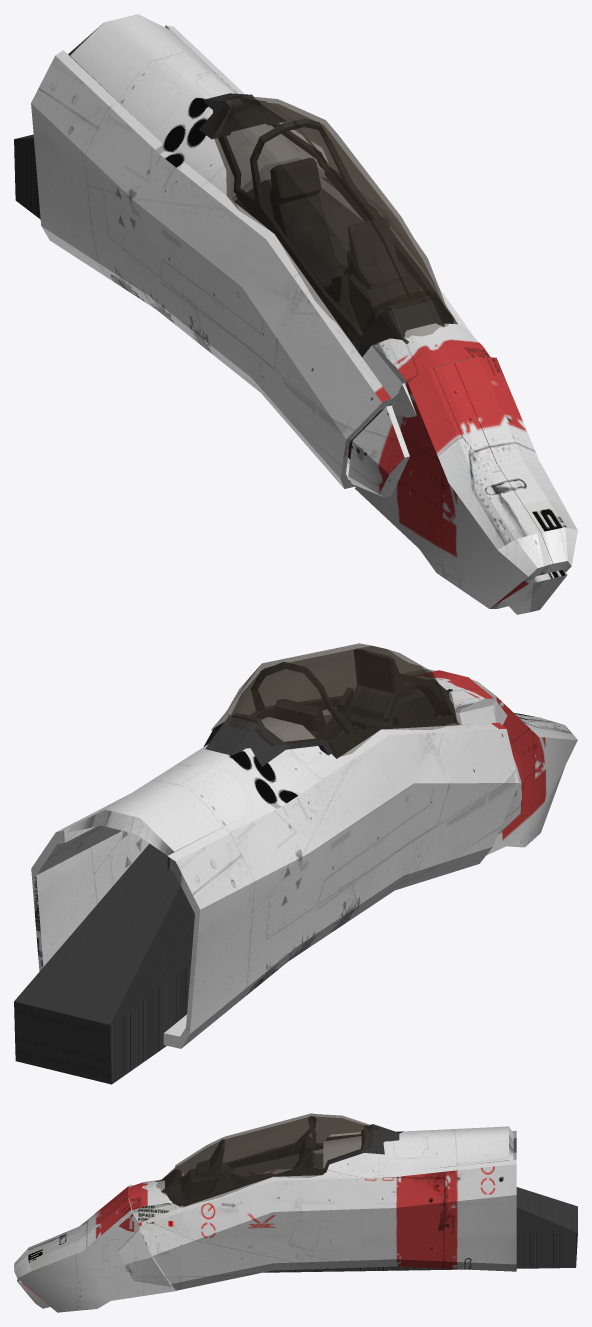
File: head05.FBX
The picture shows the model from 3 angles, top to bottom: view 1: azimuth 30°, elevation 25°; view 2: azimuth 150°, elevation 25°; view 3: azimuth 270°, elevation 25°; orthographic projection. The views are drawn at different scales.
Visible parts, largest first — view 1: head05 (×2), cockpit_glass04, cockpit04; view 2: head05 (×2), cockpit_glass04, cockpit04; view 3: head05 (×2), cockpit_glass04, cockpit04.
Boxes of the visible parts, <box> form: head05 (×2): <box>14,14,577,614</box>; cockpit_glass04: <box>209,95,455,345</box>; cockpit04: <box>199,93,452,357</box>; head05 (×2): <box>14,669,577,1084</box>; cockpit_glass04: <box>211,643,459,756</box>; cockpit04: <box>203,648,456,766</box>; head05 (×2): <box>14,1126,577,1312</box>; cockpit_glass04: <box>156,1113,378,1207</box>; cockpit04: <box>155,1116,399,1206</box>.
Size of the model in its own units: 174 by 326 by 883.
